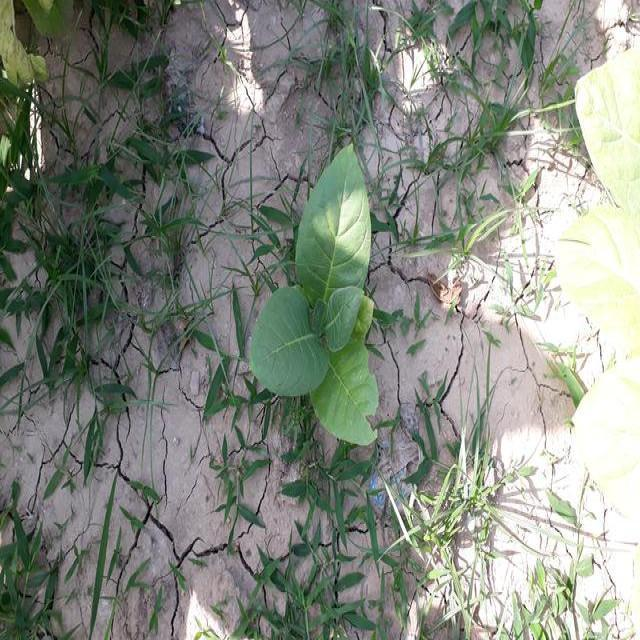tobacco: (250, 145, 377, 444)
